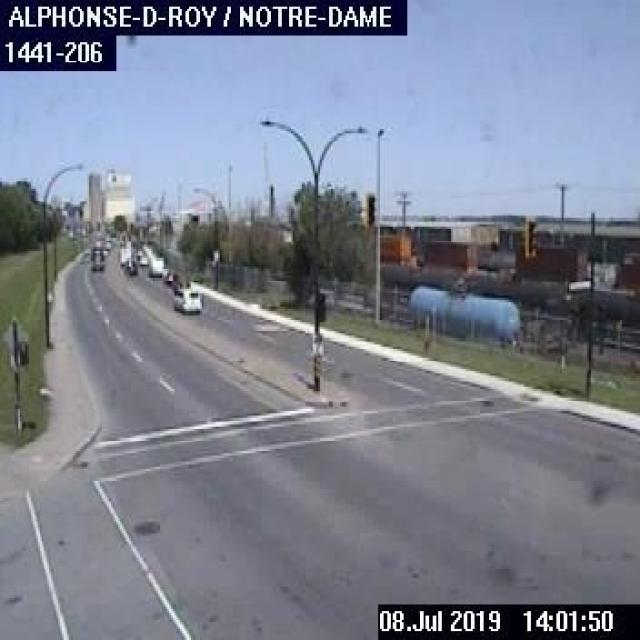vehicle: (170, 282, 202, 311), (145, 254, 164, 276), (121, 256, 136, 272), (88, 256, 102, 270)
